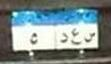5: (28, 32, 40, 45)
ain: (71, 27, 81, 45)
daal: (60, 32, 70, 43)
seen: (84, 31, 95, 43)
